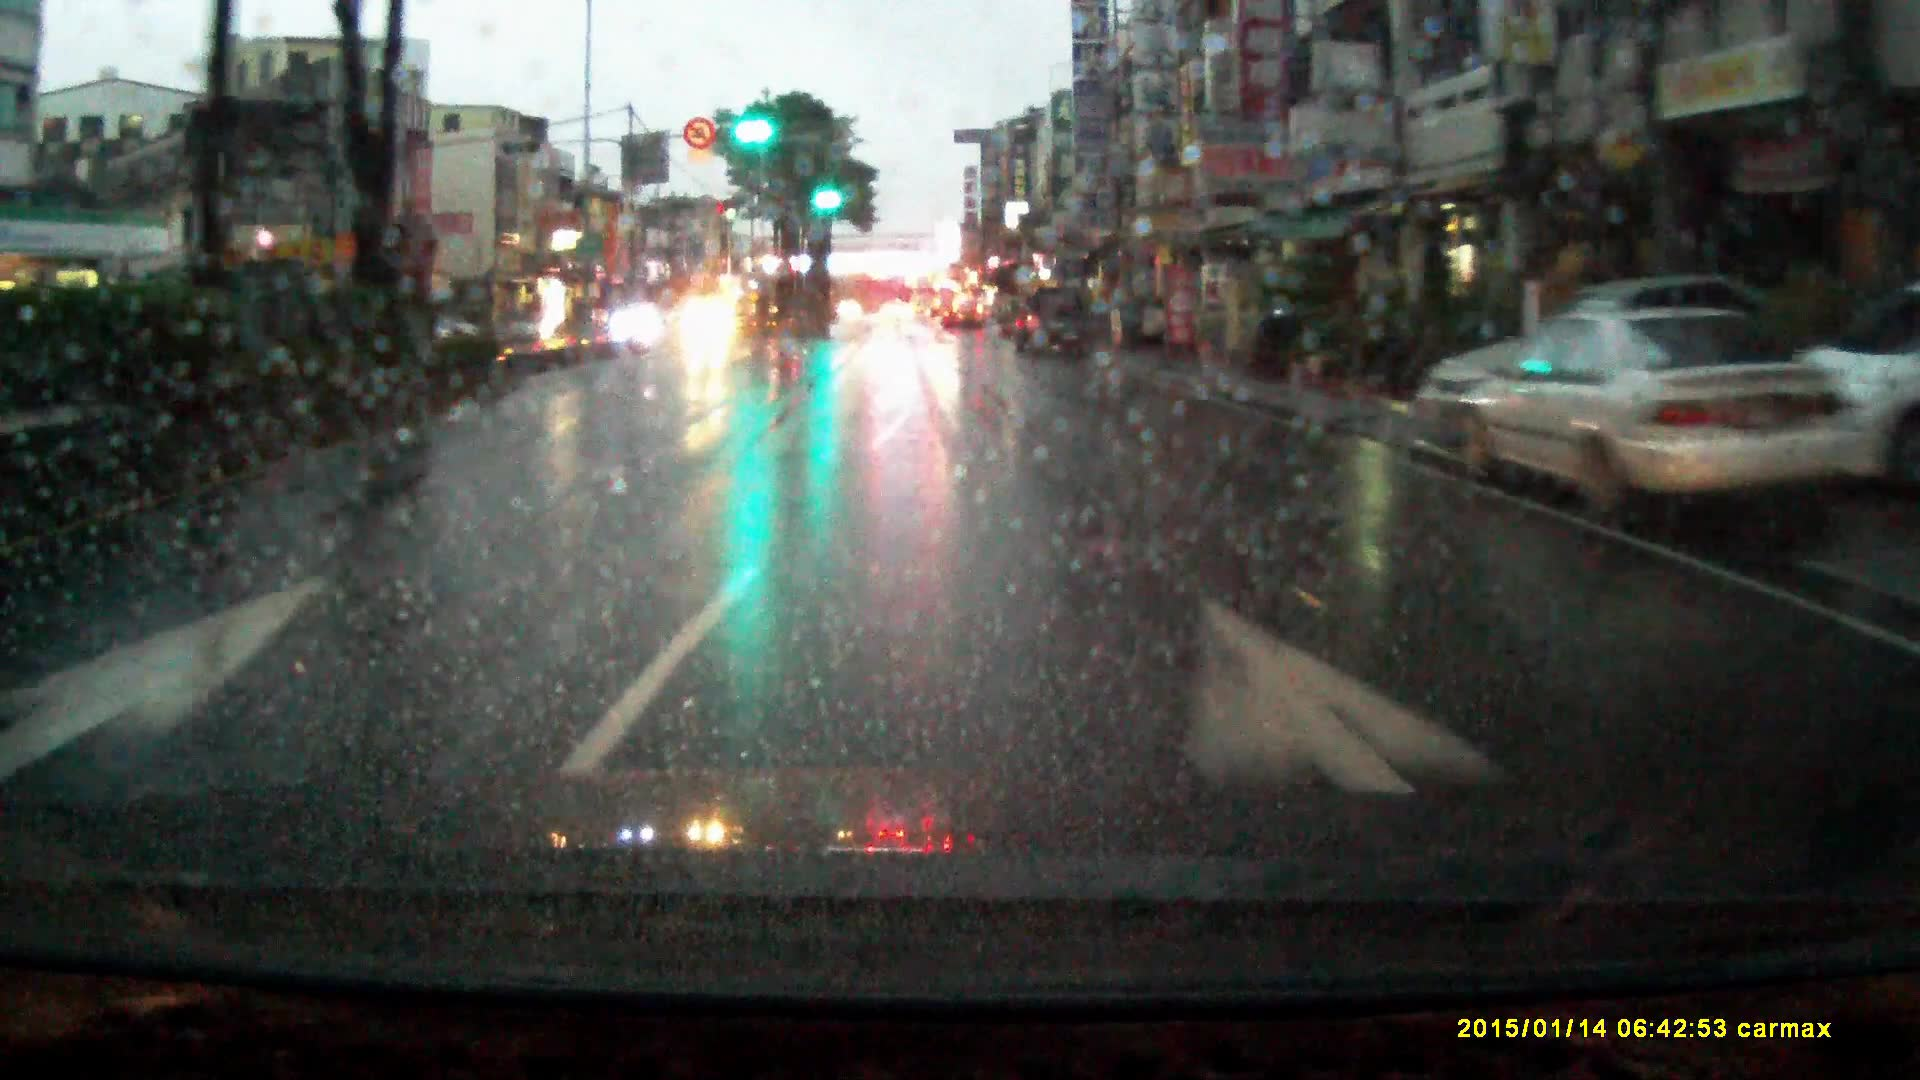vehicle: (1462, 314, 1815, 543), (1014, 284, 1097, 363), (675, 301, 742, 351), (491, 309, 555, 348), (611, 305, 667, 345), (942, 295, 986, 332), (911, 274, 943, 322), (881, 301, 918, 324)
